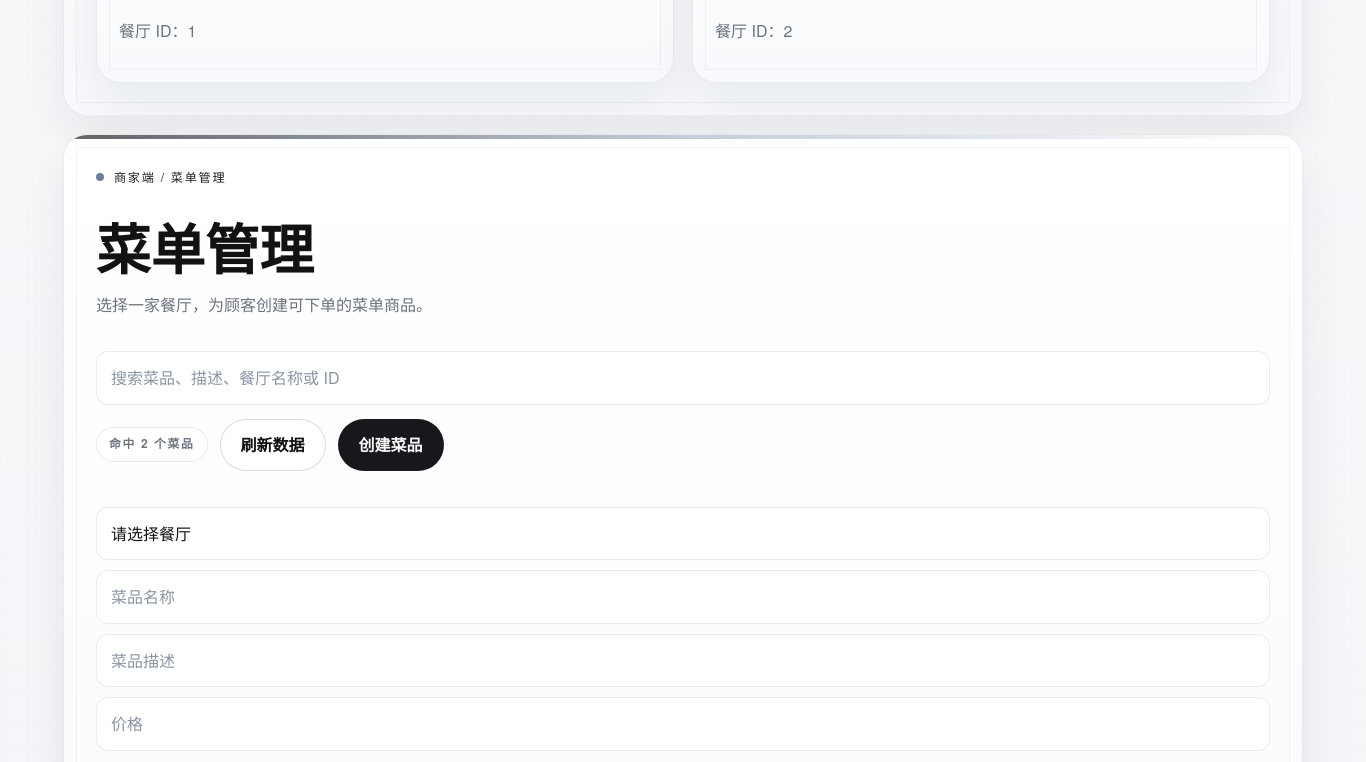
MerchantDashboard › filters menu items by search text
The image size is (1366, 762).
(page scrolled)
In the field with placeholder "搜索菜品、描述、餐厅名称或 ID": coordinates (683, 378) [96,351,1270,405], type "noodle"
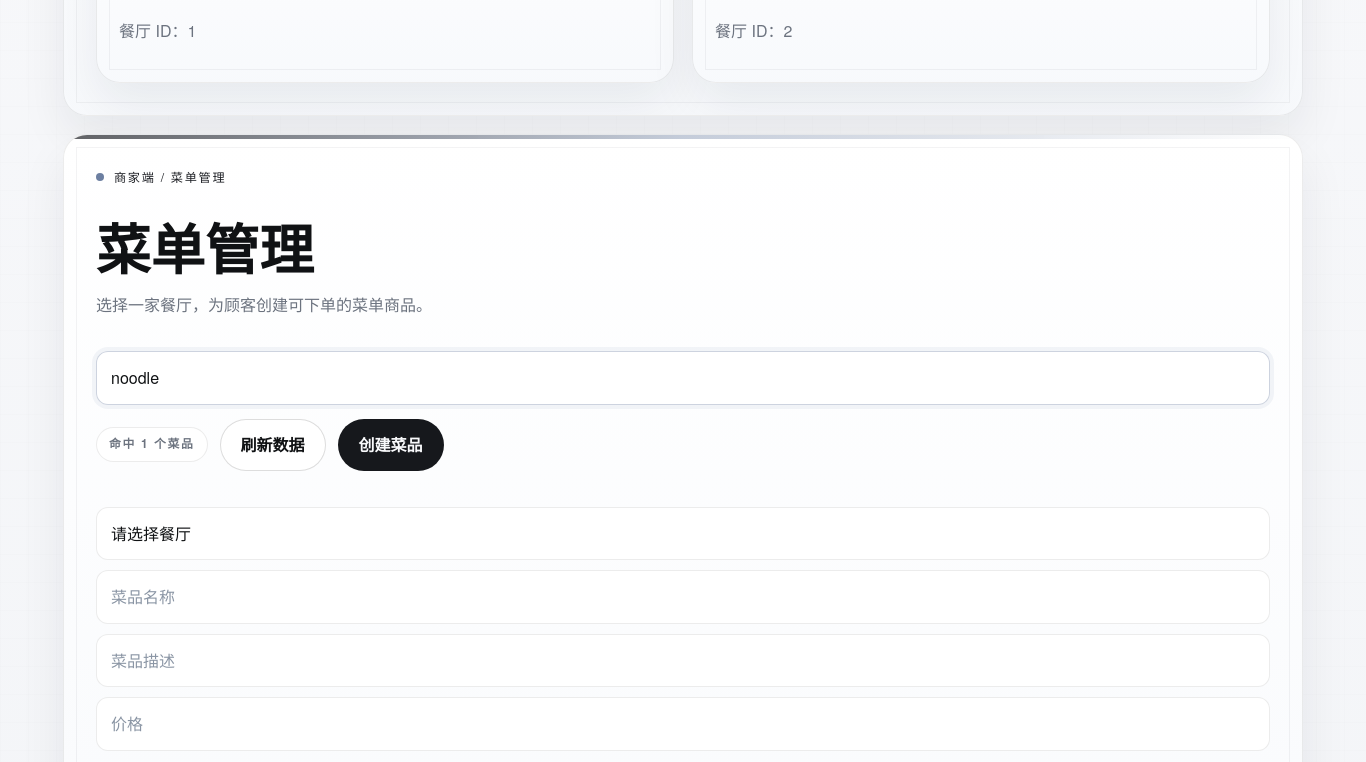
Check: the text "命中 1 个菜品" is shown, box [96,427,208,462]
